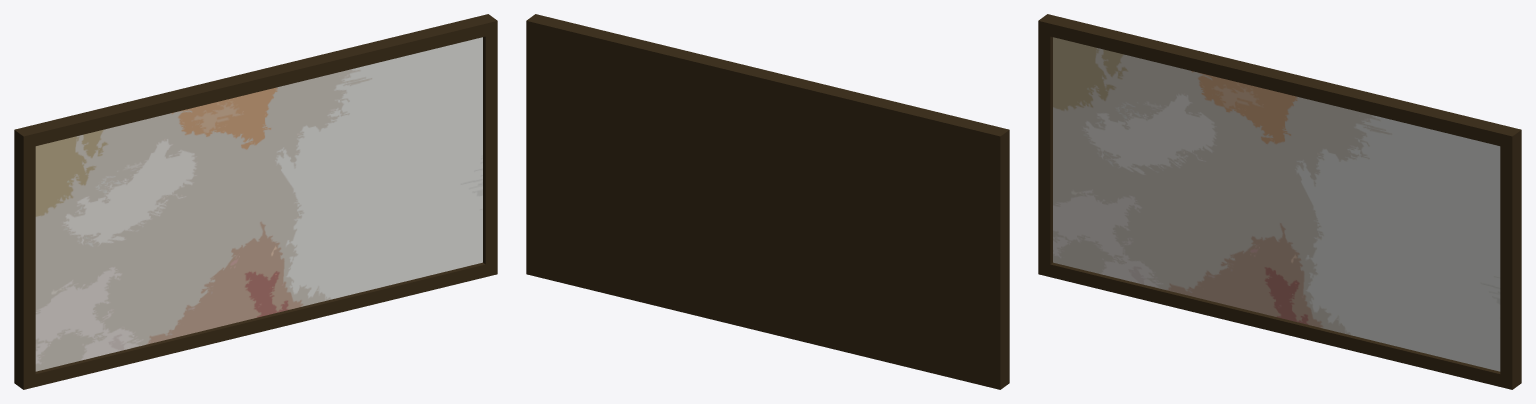
Rendered from painting.glb.
3 views of the same model, side by side, from view 1: azimuth 30°, elevation 25°; view 2: azimuth 150°, elevation 25°; view 3: azimuth 330°, elevation 25° (orthographic).
Visible parts, largest first — view 1: Painting; view 2: Painting; view 3: Painting.
Boxes of the visible parts, x1,y1,x2,y2 form: Painting: [14, 14, 497, 389]; Painting: [526, 14, 1009, 389]; Painting: [1038, 14, 1521, 389].
Bounding box in the file's own units: 0.8682 × 0.4435 × 0.0294.
Materials: 2 (2 with a texture image).
